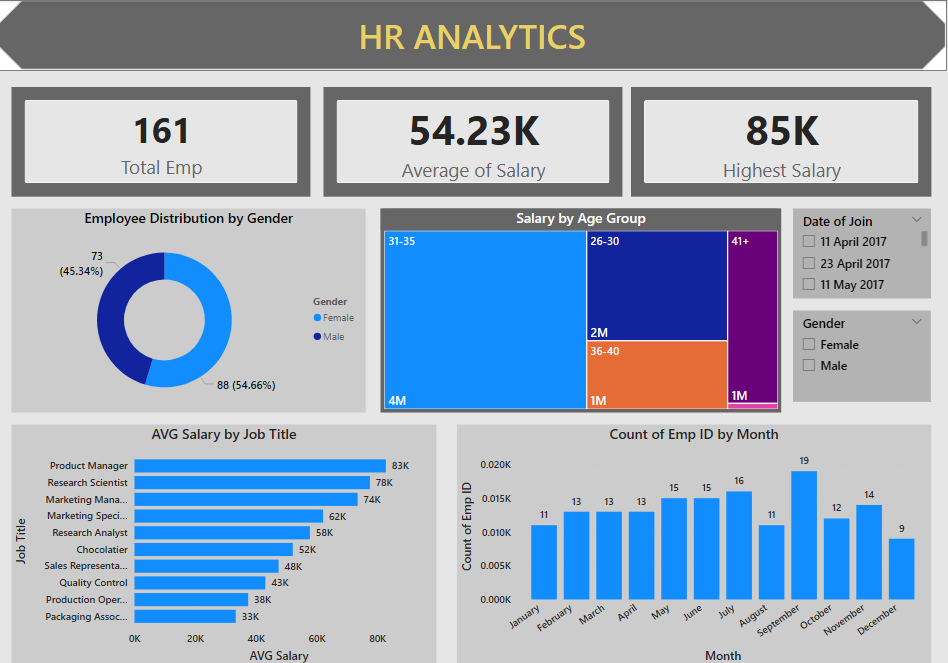

The dashboard page shown, as its layout file describes it:
{"tool":"powerbi","page":{"name":"Page 1","canvas":[1300,900],"ordinal":0},"visuals":[{"type":"cardVisual","fields":{"Data":["data.Total Emp"]},"box":[18.2,117.5,403,147.8],"z":0},{"type":"cardVisual","fields":{"Data":["Avg(data.Salary)"]},"box":[439.5,117.5,403,147.8],"z":1000},{"type":"cardVisual","fields":{"Data":["data.Highest Salary"]},"box":[854.7,117.5,405.1,147.8],"z":2000},{"type":"shape","box":[0,0,1280,95.2],"z":3000},{"type":"donutChart","title":"Employee Distribution by Gender","fields":{"Category":["data.Gender"],"Y":["CountNonNull(data.Emp ID)"]},"box":[18.2,281.5,478,275.4],"z":4000},{"type":"treemap","title":"Salary by Age Group","fields":{"Group":["data.Age Group"],"Values":["Sum(data.Salary)"]},"box":[516.5,281.5,540.8,275.4],"z":5000},{"type":"clusteredBarChart","fields":{"Category":["data.Job Title"],"Y":["data.AVG Salary"]},"box":[18.2,573.2,573.2,326.1],"z":6000},{"type":"clusteredColumnChart","fields":{"Category":["data.Date of Join.Variation.Date Hierarchy.Month"],"Y":["CountNonNull(data.Emp ID)"]},"box":[619.7,573.2,640,326.1],"z":7000},{"type":"slicer","fields":{"Values":["data.Date of Join"]},"box":[1072.7,281.3,186.2,121.4],"z":8000},{"type":"slicer","fields":{"Values":["data.Gender"]},"box":[1072.7,419,186.2,123.5],"z":9000}]}

Visuals, with their boxes in screenshot pixels (x1, y1, x2, y2), scaled from the page's 1300x900 canvas onto the 948x663 screenshot:
cardVisual - data.Total Emp: (left=13, top=87, right=307, bottom=195)
cardVisual - Avg(data.Salary): (left=320, top=87, right=614, bottom=195)
cardVisual - data.Highest Salary: (left=623, top=87, right=919, bottom=195)
shape: (left=0, top=0, right=933, bottom=70)
"Employee Distribution by Gender" donutChart: (left=13, top=207, right=362, bottom=410)
"Salary by Age Group" treemap: (left=377, top=207, right=771, bottom=410)
clusteredBarChart - data.Job Title x data.AVG Salary: (left=13, top=422, right=431, bottom=662)
clusteredColumnChart - data.Date of Join.Variation.Date Hierarchy.Month x CountNonNull(data.Emp ID): (left=452, top=422, right=919, bottom=662)
slicer - data.Date of Join: (left=782, top=207, right=918, bottom=297)
slicer - data.Gender: (left=782, top=309, right=918, bottom=400)
